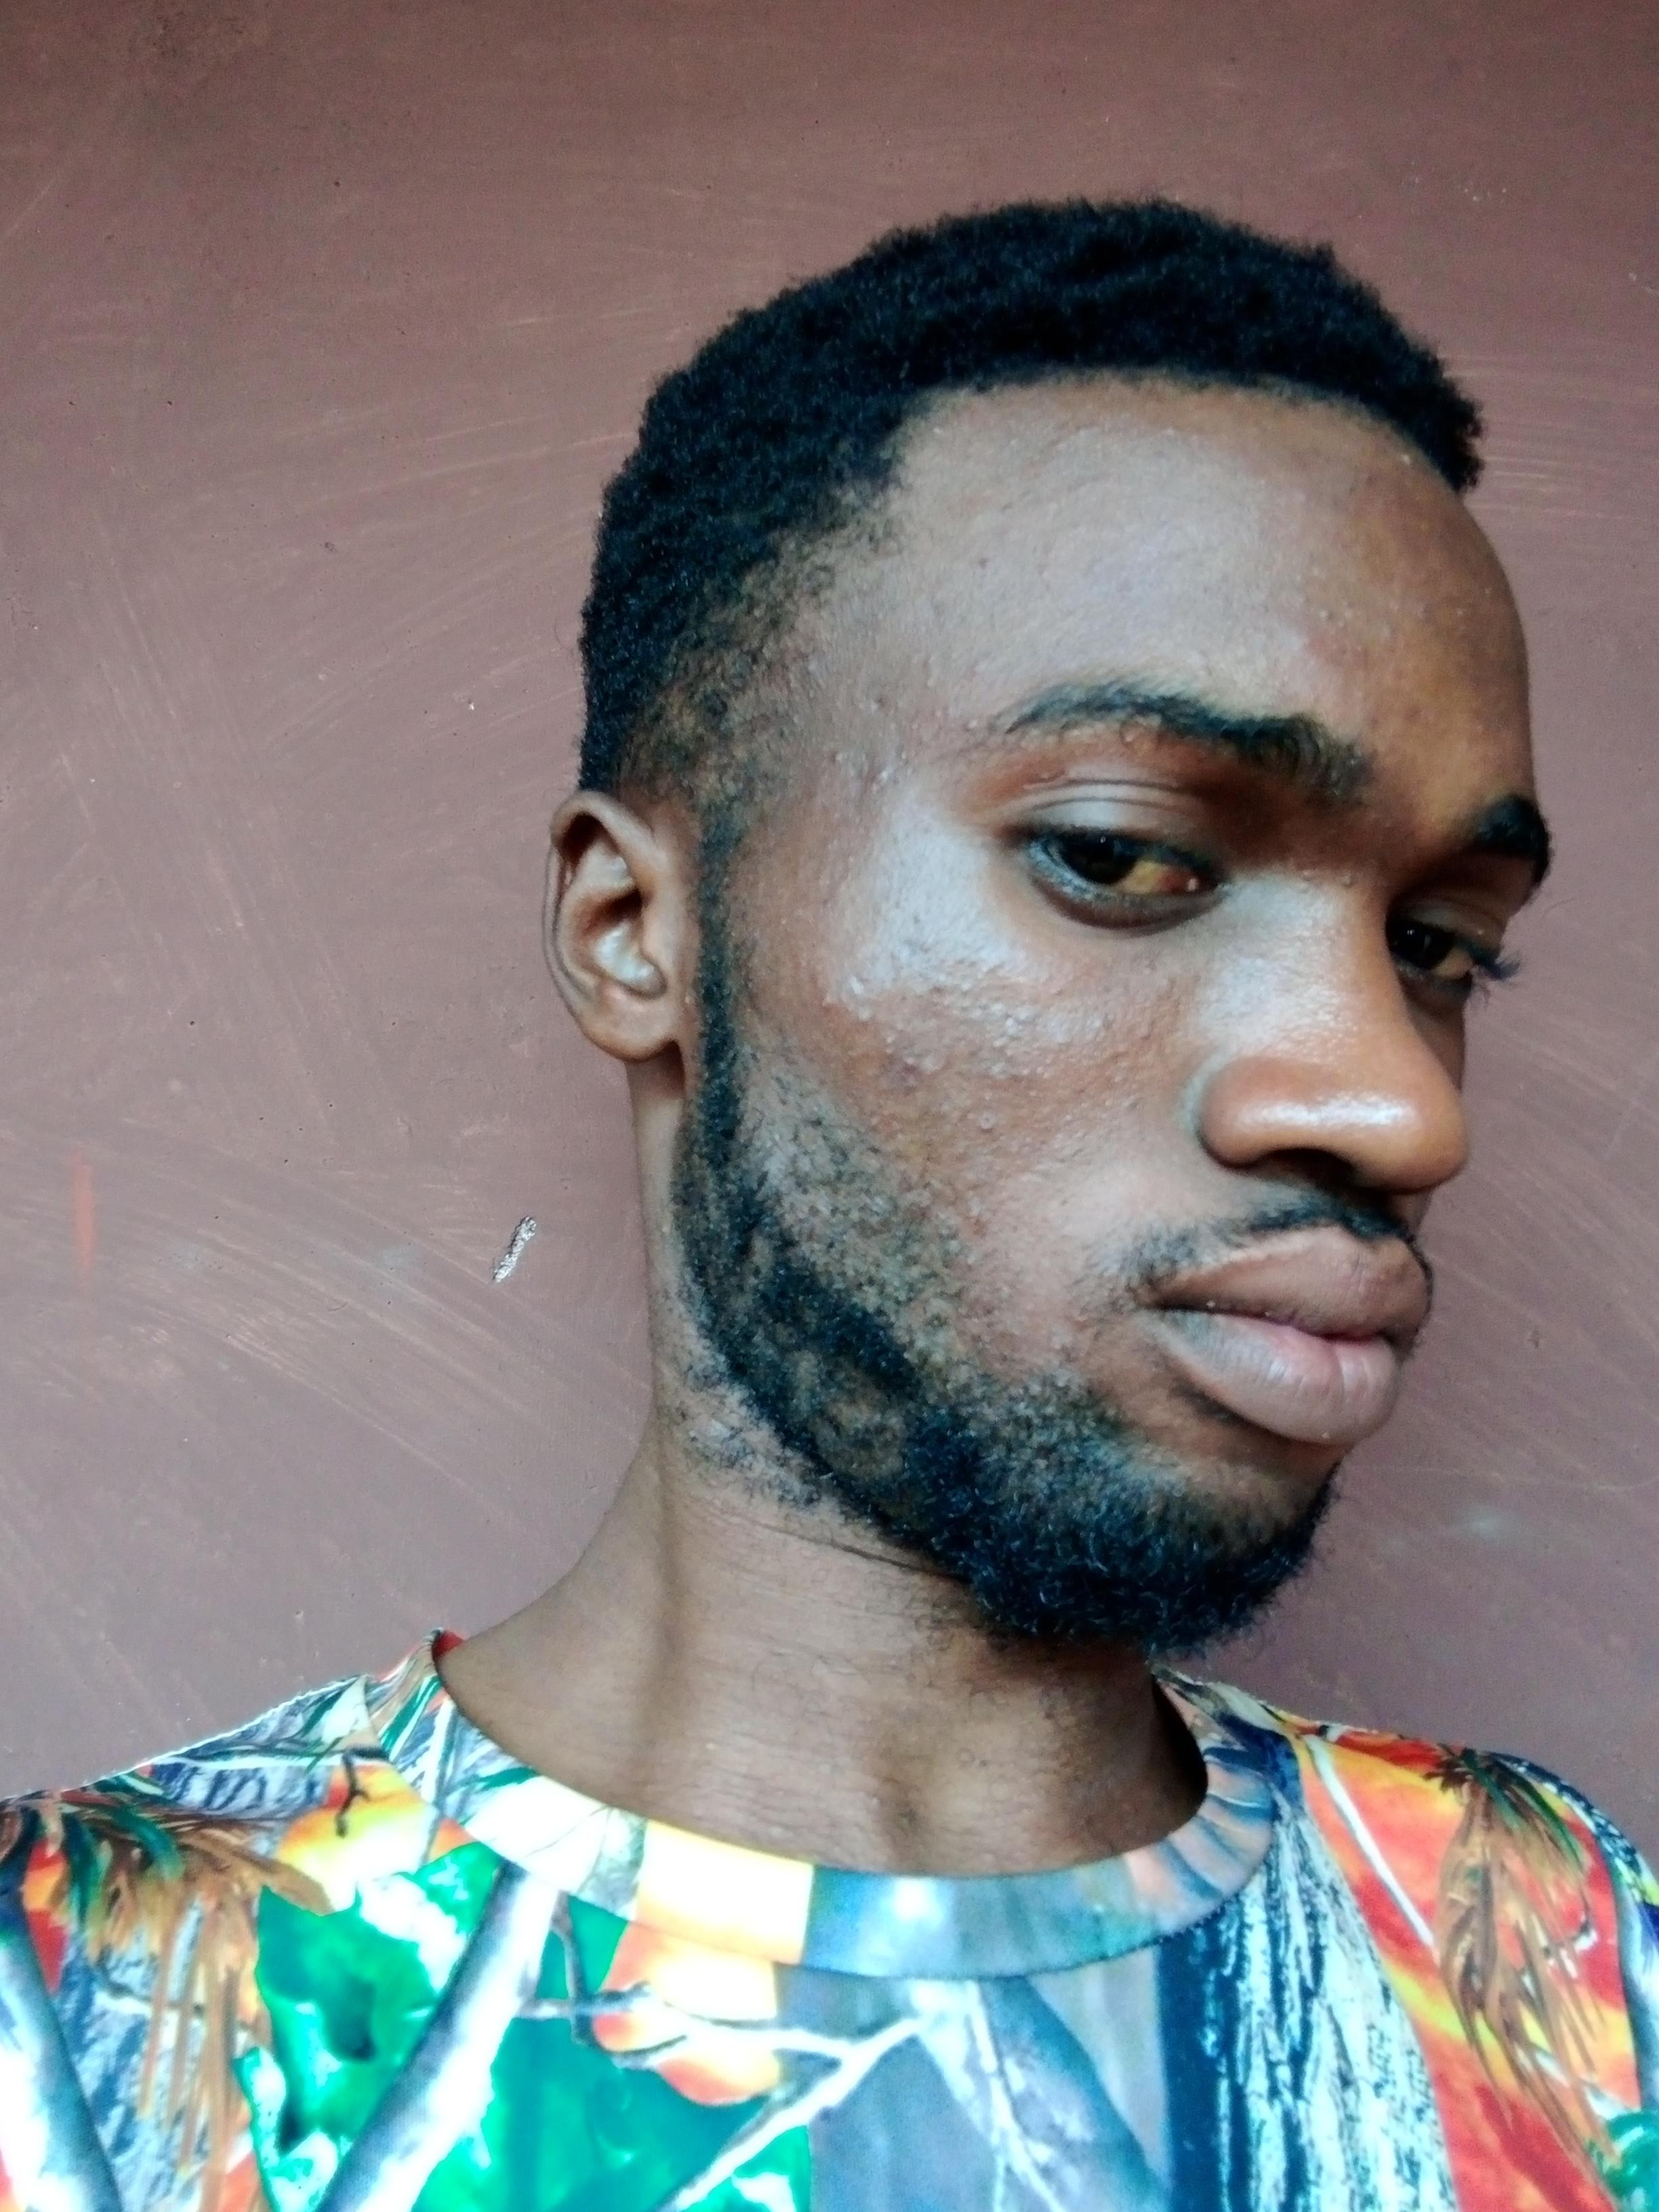Acne: (1286, 627, 1380, 665), (1040, 415, 1108, 456), (896, 1054, 951, 1090), (990, 486, 1037, 519), (920, 968, 955, 1008), (1344, 469, 1377, 502), (964, 1197, 988, 1240), (965, 549, 993, 585), (1452, 603, 1476, 644), (1112, 1089, 1148, 1116), (863, 763, 892, 794), (908, 906, 932, 942), (1096, 1043, 1134, 1066), (823, 744, 849, 777), (854, 1005, 889, 1029), (955, 979, 979, 1014), (978, 958, 1009, 982), (1399, 697, 1425, 725), (1342, 859, 1363, 894), (1157, 972, 1182, 1001), (983, 1062, 1033, 1076), (1049, 488, 1070, 521), (967, 651, 992, 679), (880, 1029, 897, 1068), (1047, 1029, 1073, 1054), (1364, 714, 1389, 740), (1011, 1007, 1039, 1028), (816, 993, 836, 1021), (920, 667, 941, 695), (1040, 984, 1070, 1003), (957, 716, 981, 738), (1317, 601, 1335, 631), (1033, 564, 1056, 587), (976, 1111, 999, 1132), (1298, 864, 1321, 885), (1091, 1010, 1115, 1029), (1394, 446, 1413, 470), (1417, 597, 1436, 622), (986, 1029, 1007, 1049), (1384, 812, 1401, 834), (1138, 1014, 1150, 1043), (1007, 432, 1026, 446), (934, 420, 946, 441)
